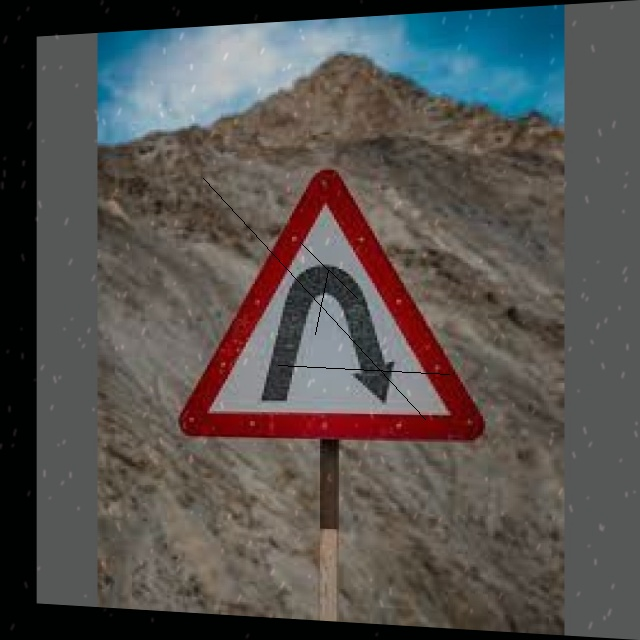Right_Hair_Pin_Bend: (198, 170, 483, 439)
